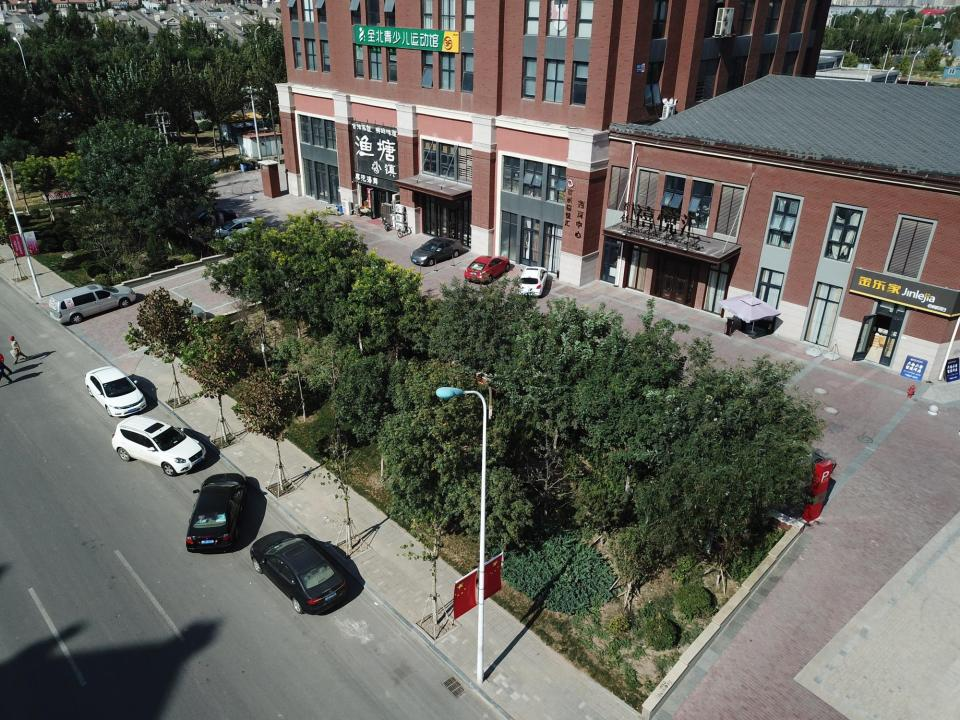car: (247, 530, 349, 615), (111, 413, 207, 478), (185, 473, 247, 555), (84, 365, 148, 418), (410, 236, 463, 266), (224, 226, 274, 254), (464, 255, 510, 284), (183, 208, 237, 232), (212, 217, 255, 241), (516, 266, 548, 298)
van: (48, 283, 135, 327)
